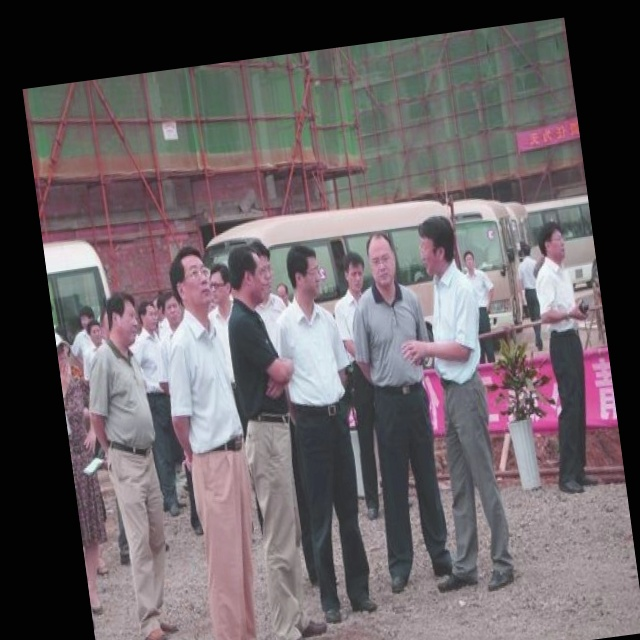Sin_Casco_Mascarrilla: (166, 243, 217, 322), (103, 290, 142, 352)
Sin_Chaleco: (347, 280, 431, 396), (272, 298, 352, 415), (420, 268, 489, 383)
